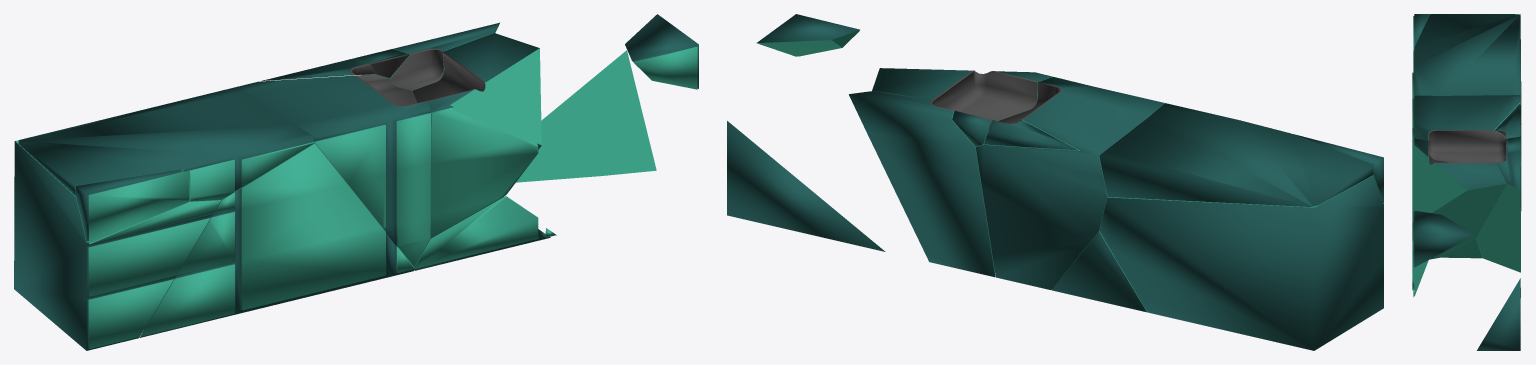
Rendered from Encimera_Roto.fbx.
3 views of the same model, side by side, from view 1: azimuth 30°, elevation 25°; view 2: azimuth 150°, elevation 25°; view 3: azimuth 270°, elevation 25° (orthographic). The views are drawn at different scales.
Parts seen in each view (by area): view 1: Encimera_cell.003, Encimera_cell.009, Encimera_cell, Encimera_cell.007, Encimera_cell.011, Encimera_cell.002, Encimera_cell.004, Encimera_cell.008, Encimera_cell.010, Encimera_cell.006, Encimera_cell.005, Encimera_cell.013; view 2: Encimera_cell.009, Encimera_cell.011, Encimera_cell, Encimera_cell.006, Encimera_cell.002, Encimera_cell.007, Encimera_cell.003, Encimera_cell.010, Encimera_cell.005, Encimera_cell.004, Encimera_cell.013; view 3: Encimera_cell, Encimera_cell.011, Encimera_cell.007, Encimera_cell.006, Encimera_cell.010, Encimera_cell.002, Encimera_cell.005, Encimera_cell.008, Encimera_cell.004, Encimera_cell.013, Encimera_cell.009.
Boxes of the visible parts, x1,y1,x2,y2 form: Encimera_cell.003: (140,143,414,337); Encimera_cell.009: (14,140,221,350); Encimera_cell: (18,86,314,201); Encimera_cell.007: (412,33,541,239); Encimera_cell.011: (239,74,430,269); Encimera_cell.002: (516,50,656,182); Encimera_cell.004: (76,169,189,243); Encimera_cell.008: (414,196,556,270); Encimera_cell.010: (625,14,698,89); Encimera_cell.006: (389,22,499,90); Encimera_cell.005: (262,58,373,80); Encimera_cell.013: (354,49,409,78); Encimera_cell.009: (1099,175,1383,350); Encimera_cell.011: (975,77,1164,289); Encimera_cell: (1099,103,1373,206); Encimera_cell.006: (849,91,995,277); Encimera_cell.002: (727,121,885,251); Encimera_cell.007: (872,68,1052,123); Encimera_cell.003: (1052,231,1146,312); Encimera_cell.010: (756,14,859,56); Encimera_cell.005: (984,119,1077,150); Encimera_cell.004: (1293,134,1383,203); Encimera_cell.013: (952,110,991,146); Encimera_cell: (1412,14,1520,117); Encimera_cell.011: (1412,95,1521,258); Encimera_cell.007: (1412,138,1506,259); Encimera_cell.006: (1476,150,1520,272); Encimera_cell.010: (1413,210,1475,267); Encimera_cell.002: (1477,278,1520,350); Encimera_cell.005: (1494,103,1520,138); Encimera_cell.008: (1412,240,1428,297); Encimera_cell.004: (1413,14,1429,51); Encimera_cell.013: (1505,136,1520,158); Encimera_cell.009: (1517,14,1521,158).
Bounding box in the file's own units: 289 × 71.84 × 60.29.
